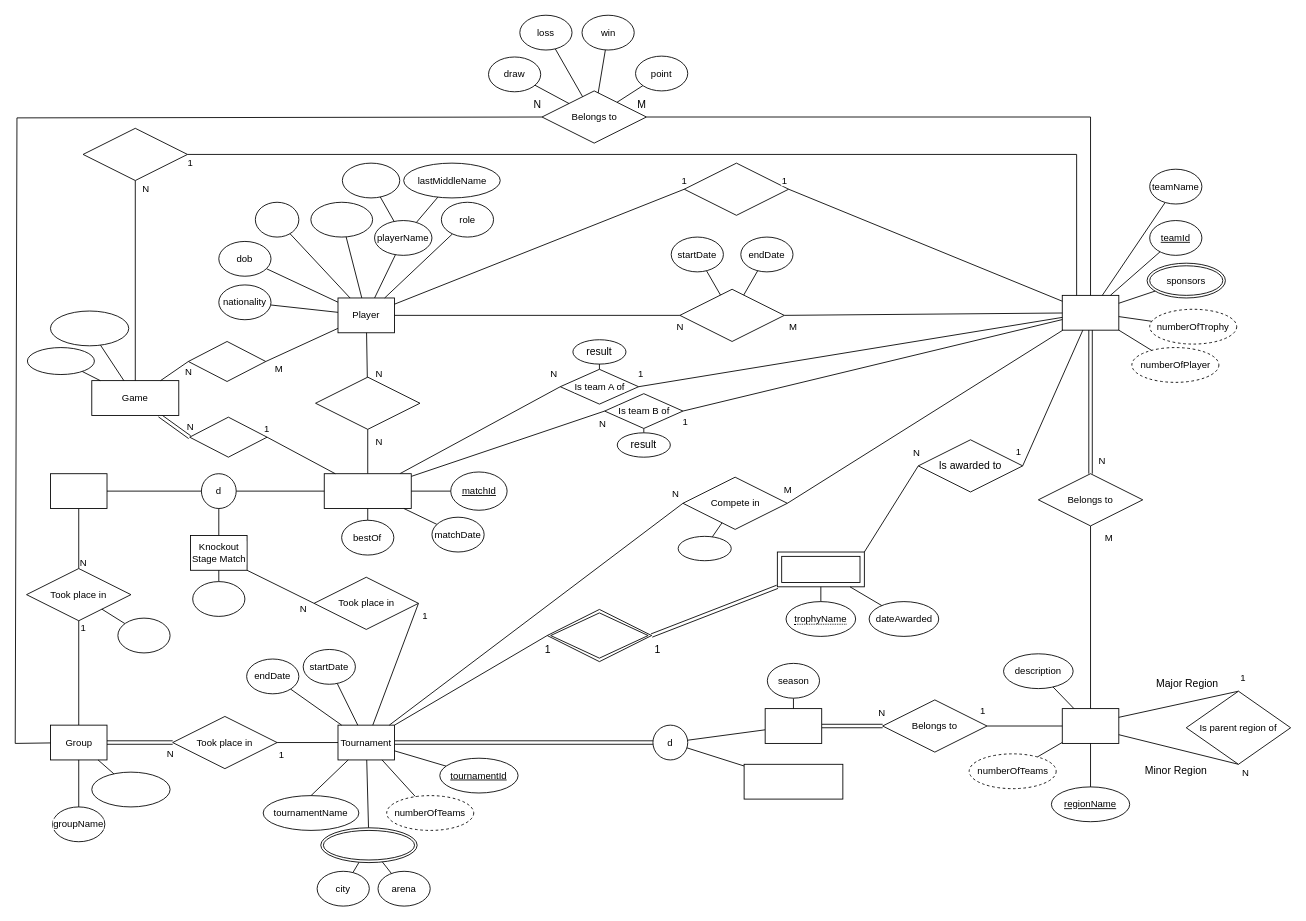
Image size: 1306x921. Some labels were removed from this diagram. Each missing label, with the box of its shape:
Be a part of: (189, 416, 267, 457)
competitionLocation: (320, 827, 417, 863)
first name: (341, 162, 400, 198)
gameId: (50, 310, 129, 346)
gameNumber: (27, 347, 94, 375)
Group Stage Match: (50, 473, 107, 509)
groupId: (91, 771, 170, 807)
Has: (546, 609, 652, 662)
ingameName: (310, 201, 373, 237)
International Tournament: (743, 763, 843, 799)
Is captain of: (683, 162, 789, 215)
isTieBreak: (117, 617, 170, 653)
Match: (323, 473, 411, 509)
Play for: (679, 288, 784, 341)
Play in: (187, 341, 266, 381)
playerId: (254, 201, 299, 237)
rank: (677, 535, 731, 561)
Region: (1061, 708, 1119, 743)
Region Tournament: (764, 708, 822, 743)
round: (192, 581, 245, 616)
Take part in: (315, 376, 420, 429)
Team: (1061, 294, 1119, 330)
Trophy: (776, 551, 864, 587)
Win the game: (82, 127, 187, 181)
